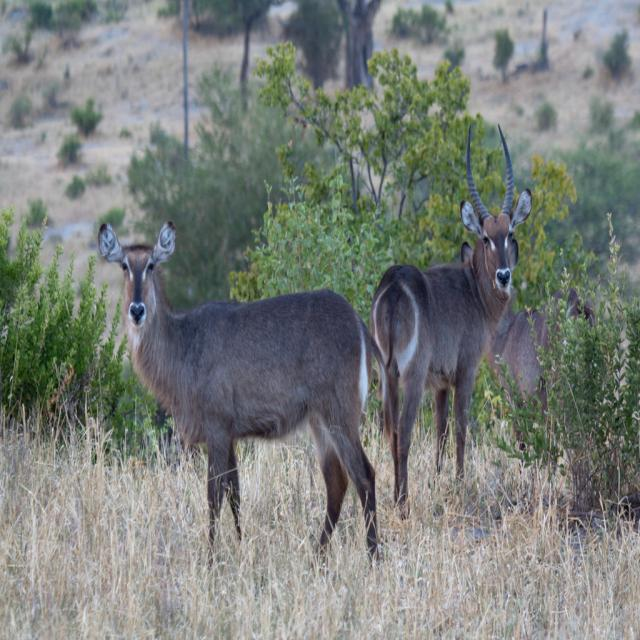Deer: (97, 219, 391, 563), (367, 122, 531, 521), (499, 292, 596, 432)
